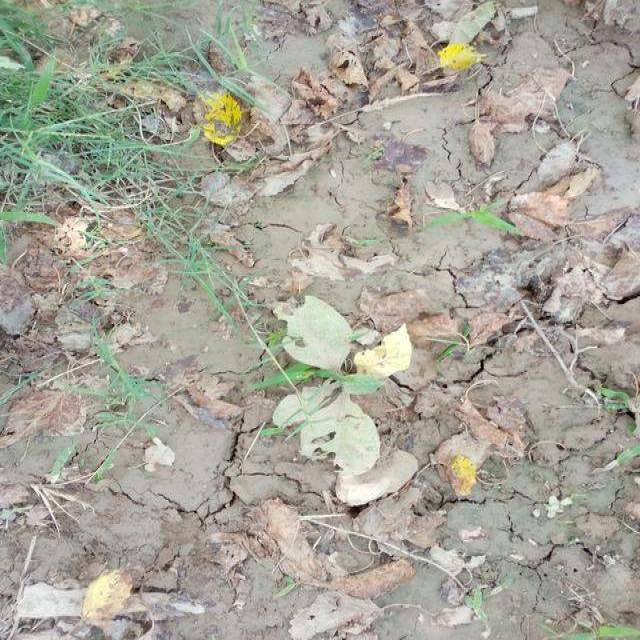crop: (275, 289, 421, 511)
